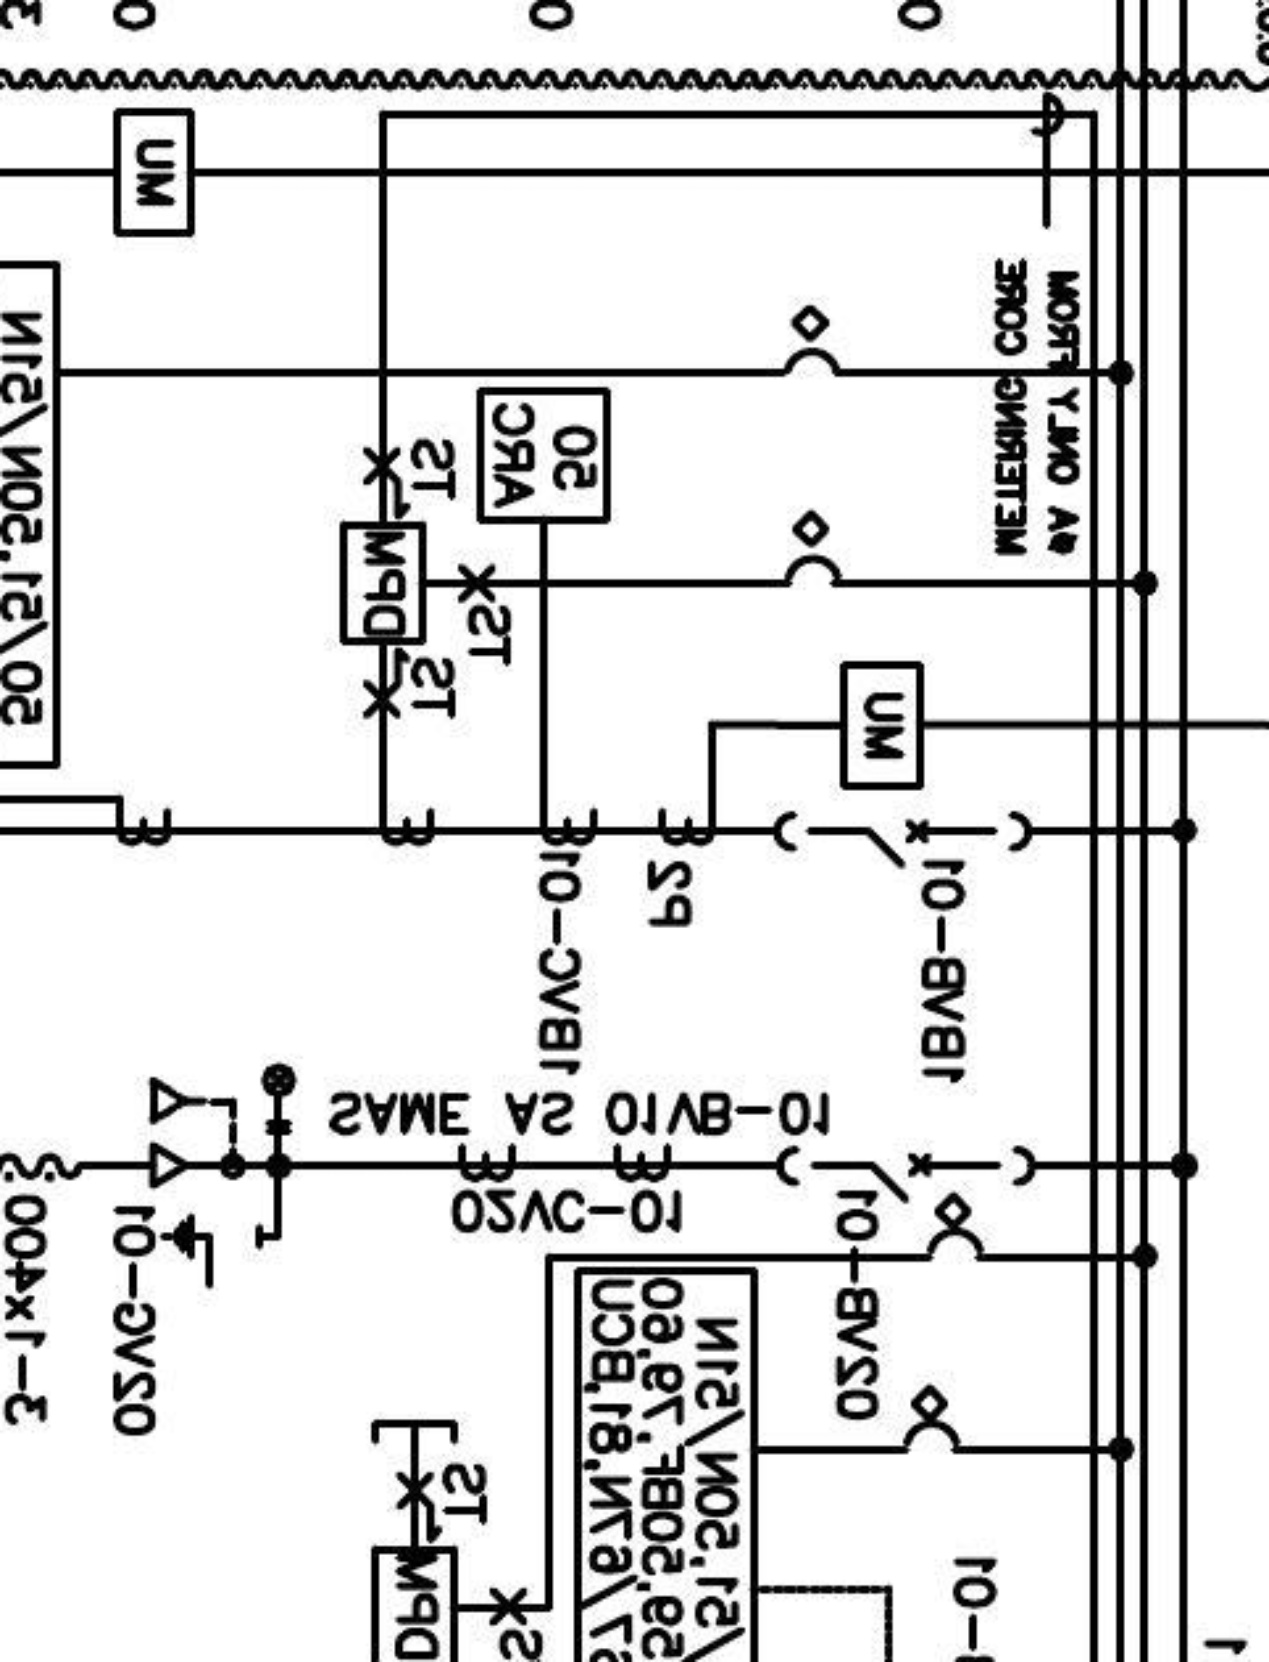22_breaker: (772, 809, 1034, 870), (776, 1145, 1038, 1205)
22_gs: (160, 1212, 265, 1291)
22_ll: (260, 1062, 299, 1137)
DPM: (337, 520, 428, 648)
MU: (838, 660, 926, 792), (112, 107, 197, 239)
terminator_w_future: (148, 1074, 239, 1192)
